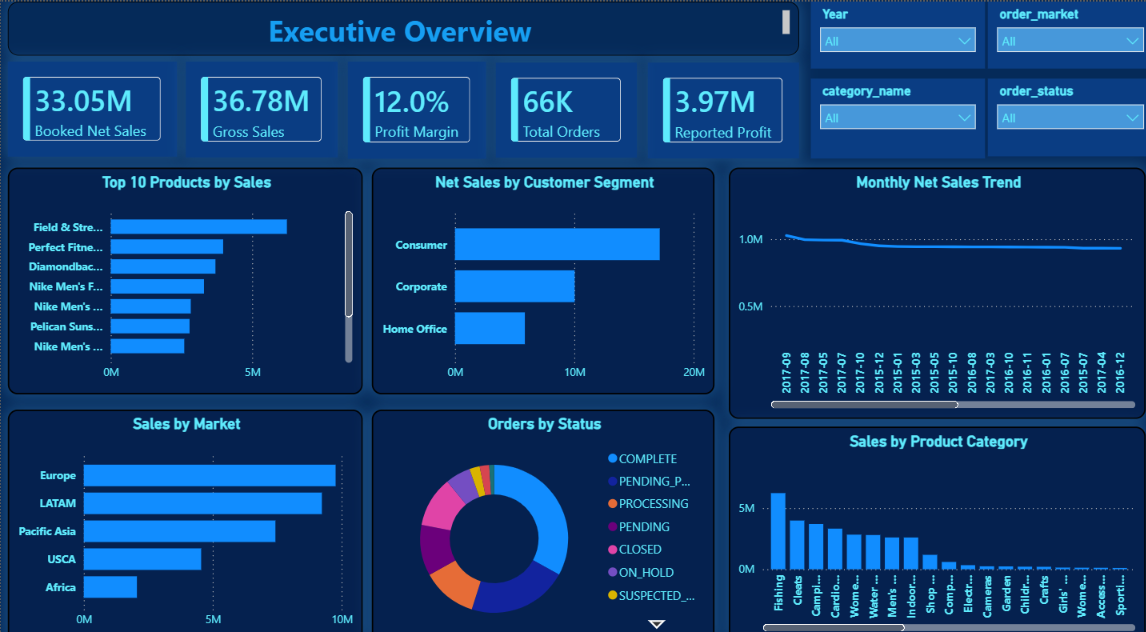

What the dashboard file says about the page in this screenshot:
{"tool":"powerbi","page":{"name":"Executive Overview","canvas":[1280,720],"ordinal":0},"visuals":[{"type":"textbox","box":[7.8,0,878.9,60],"z":0},{"type":"lineChart","title":"Monthly Net Sales Trend","fields":{"Category":["DimDate.year_month"],"Y":["FactOrders.Booked Net Sales"]},"box":[808.9,184.4,463.3,278.9],"z":1},{"type":"clusteredBarChart","title":"Sales by Market","fields":{"Y":["FactOrders.Booked Net Sales"],"Category":["FactOrders.order_market"]},"box":[7.8,453.3,394.4,257.8],"z":2},{"type":"donutChart","title":"Orders by Status","fields":{"Category":["FactOrders.order_status"],"Y":["FactOrders.Total Orders"]},"box":[412.2,453.3,381.1,257.8],"z":3},{"type":"clusteredColumnChart","title":"Sales by Product Category","fields":{"Category":["DimProducts.category_name"],"Y":["FactOrders.Booked Net Sales"]},"box":[808.9,472.2,463.3,238.9],"z":4},{"type":"clusteredBarChart","title":"Top 10 Products by Sales","fields":{"Category":["DimProducts.product_name"],"Y":["FactOrders.Booked Net Sales"]},"box":[7.8,184.4,394.4,252.2],"z":5},{"type":"clusteredBarChart","title":"Net Sales by Customer Segment","fields":{"Category":["DimCustomers.customer_segment"],"Y":["FactOrders.Booked Net Sales"]},"box":[412.2,184.4,381.1,252.2],"z":6},{"type":"cardVisual","fields":{"Data":["FactOrders.Booked Net Sales"]},"box":[7.8,66.7,187.8,105.6],"z":7},{"type":"cardVisual","fields":{"Data":["FactOrders.Gross Sales"]},"box":[205.6,66.7,168.9,106.7],"z":8},{"type":"cardVisual","fields":{"Data":["FactOrders.Profit Margin"]},"box":[385.6,66.7,153.3,107.8],"z":9},{"type":"cardVisual","fields":{"Data":["FactOrders.Reported Profit"]},"box":[718.9,67.8,167.8,106.7],"z":10},{"type":"cardVisual","fields":{"Data":["FactOrders.Total Orders"]},"box":[550,67.8,156.7,105.6],"z":11},{"type":"slicer","fields":{"Values":["FactOrders.order_market"]},"box":[1096.7,0,183.3,74.4],"z":12},{"type":"slicer","fields":{"Values":["DimProducts.category_name"]},"box":[900,85.6,193.3,88.9],"z":13},{"type":"slicer","fields":{"Values":["FactOrders.order_status"]},"box":[1096.7,85.6,183.3,86.7],"z":14},{"type":"slicer","fields":{"Values":["DimDate.calendar_date.Variation.Date Hierarchy.Year"]},"box":[900,0,193.3,74.4],"z":15}]}

Visuals, with their boxes in screenshot pixels (x1, y1, x2, y2), scaled from the page's 1280x720 canvas onto the 1146x632 screenshot:
textbox: [7,0,794,53]
"Monthly Net Sales Trend" lineChart: [724,162,1139,407]
"Sales by Market" clusteredBarChart: [7,398,360,624]
"Orders by Status" donutChart: [369,398,710,624]
"Sales by Product Category" clusteredColumnChart: [724,414,1139,624]
"Top 10 Products by Sales" clusteredBarChart: [7,162,360,383]
"Net Sales by Customer Segment" clusteredBarChart: [369,162,710,383]
cardVisual - FactOrders.Booked Net Sales: [7,59,175,151]
cardVisual - FactOrders.Gross Sales: [184,59,335,152]
cardVisual - FactOrders.Profit Margin: [345,59,482,153]
cardVisual - FactOrders.Reported Profit: [644,60,794,153]
cardVisual - FactOrders.Total Orders: [492,60,633,152]
slicer - FactOrders.order_market: [982,0,1145,65]
slicer - DimProducts.category_name: [806,75,979,153]
slicer - FactOrders.order_status: [982,75,1145,151]
slicer - DimDate.calendar_date.Variation.Date Hierarchy.Year: [806,0,979,65]
